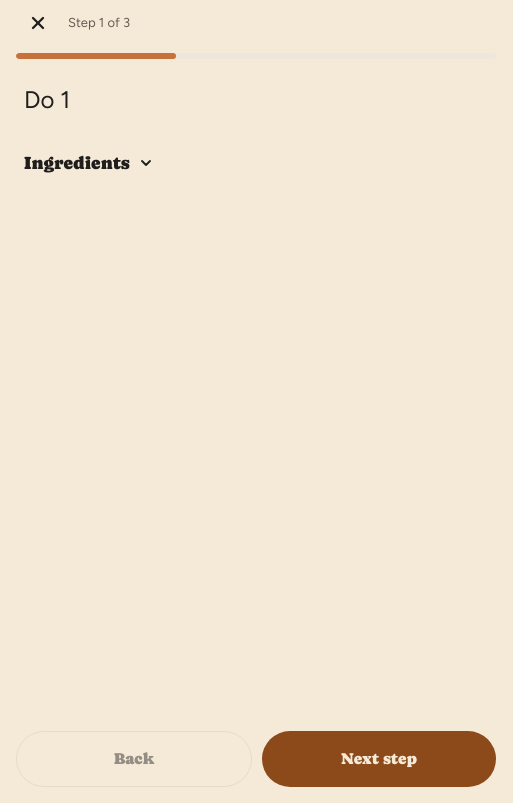
Scenario: CookModePage (RL-203) › scales the ingredients to the servings passed in, behind a closed toggle
Expected: the text "200 g" is not shown
Click the button "Ingredients" at (89, 163), box [24,141,154,185]
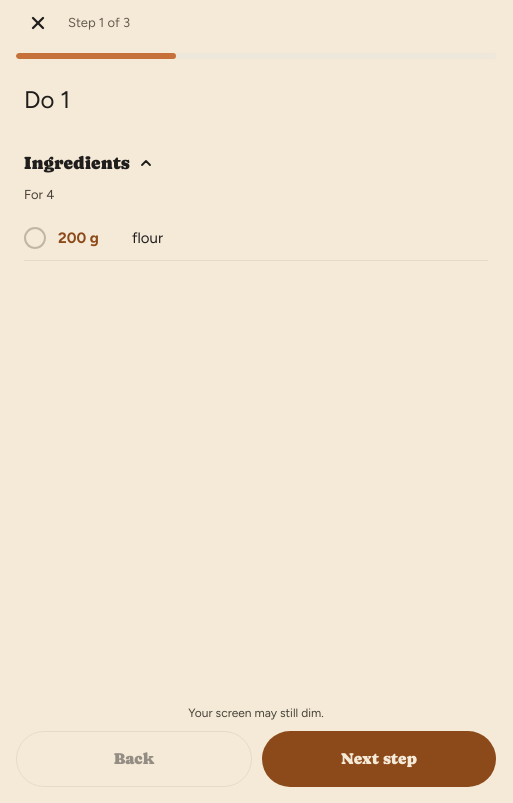
Now the text "200 g" is shown, box [58,229,99,247]
Now the text "For 4" is shown, box [24,185,54,205]
